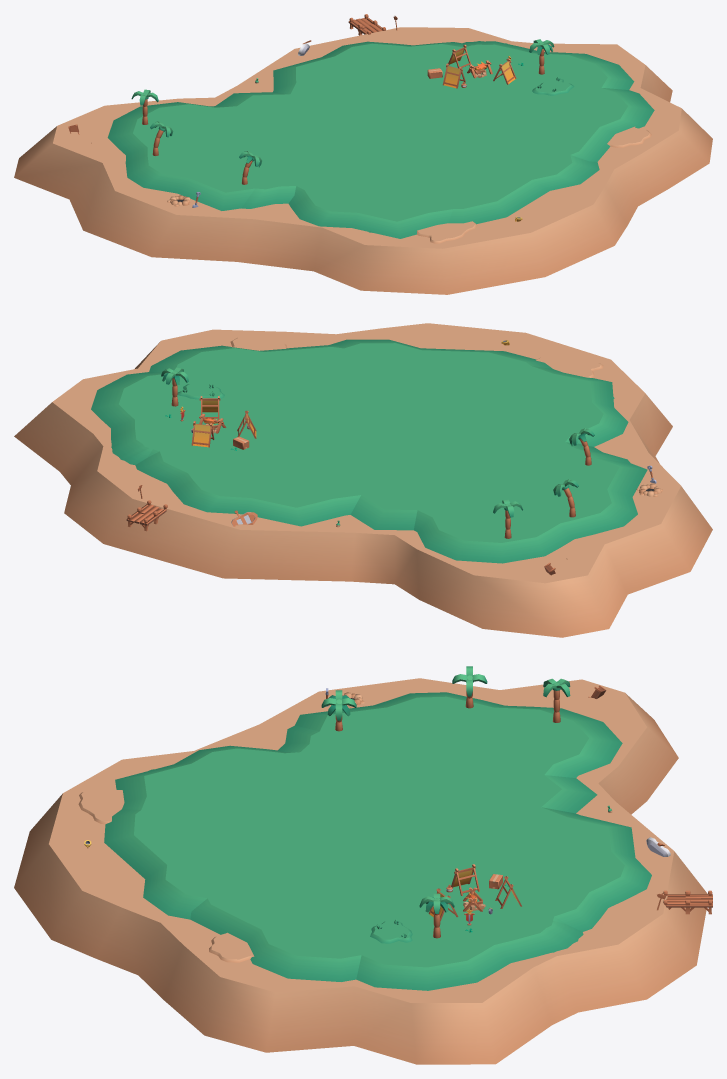
The model's file is island.glb.
The picture shows the model from 3 angles, top to bottom: view 1: azimuth 30°, elevation 25°; view 2: azimuth 150°, elevation 25°; view 3: azimuth 270°, elevation 25°; orthographic projection. The views are drawn at different scales.
Visible parts, largest first — view 1: mergedBlocks(Clone); view 2: mergedBlocks(Clone); view 3: mergedBlocks(Clone).
Boxes of the visible parts, x1,y1,x2,y2 form: mergedBlocks(Clone): (14, 14, 712, 294); mergedBlocks(Clone): (14, 323, 712, 637); mergedBlocks(Clone): (14, 666, 712, 1064).
Size of the model in its own units: 78.5 by 9.29 by 64.23.
4 materials, 3 textured.
